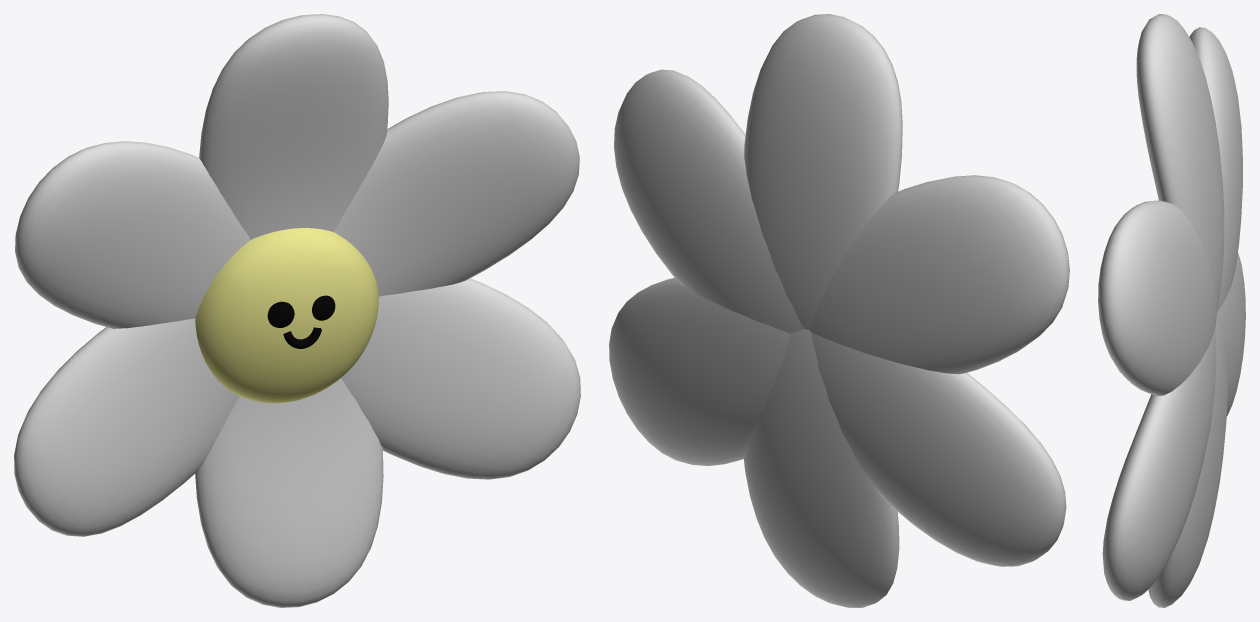
The model's file is flower.gltf.
3 views of the same model, side by side, from view 1: azimuth 30°, elevation 25°; view 2: azimuth 150°, elevation 25°; view 3: azimuth 270°, elevation 25° (orthographic). The views are drawn at different scales.
Visible parts, largest first — view 1: Cube.002, Cube.001, Cube.005, Cube.004, Cube.007, Cube, Roundcube.001; view 2: Cube.007, Cube.005, Cube, Cube.001, Cube.004, Cube.002; view 3: Cube.001, Cube.002, Cube, Cube.004, Cube.007, Cube.005.
Boxes of the visible parts, left/top/right/bottom form: Cube.002: left=341, top=278, right=580, bottom=479; Cube.001: left=334, top=91, right=579, bottom=296; Cube.005: left=14, top=318, right=239, bottom=536; Cube.004: left=195, top=378, right=383, bottom=607; Cube.007: left=15, top=141, right=250, bottom=328; Cube: left=199, top=14, right=388, bottom=239; Roundcube.001: left=195, top=228, right=378, bottom=403; Cube.007: left=810, top=175, right=1069, bottom=374; Cube.005: left=811, top=333, right=1066, bottom=566; Cube: left=744, top=14, right=902, bottom=330; Cube.001: left=614, top=69, right=804, bottom=333; Cube.004: left=743, top=329, right=899, bottom=607; Cube.002: left=609, top=277, right=790, bottom=465; Cube.001: left=1098, top=200, right=1216, bottom=396; Cube.002: left=1102, top=330, right=1216, bottom=600; Cube: left=1136, top=14, right=1224, bottom=311; Cube.004: left=1148, top=310, right=1227, bottom=607; Cube.007: left=1189, top=27, right=1242, bottom=310; Cube.005: left=1218, top=253, right=1245, bottom=416.
Size of the model in its own units: 1.43 by 1.57 by 0.3647.
